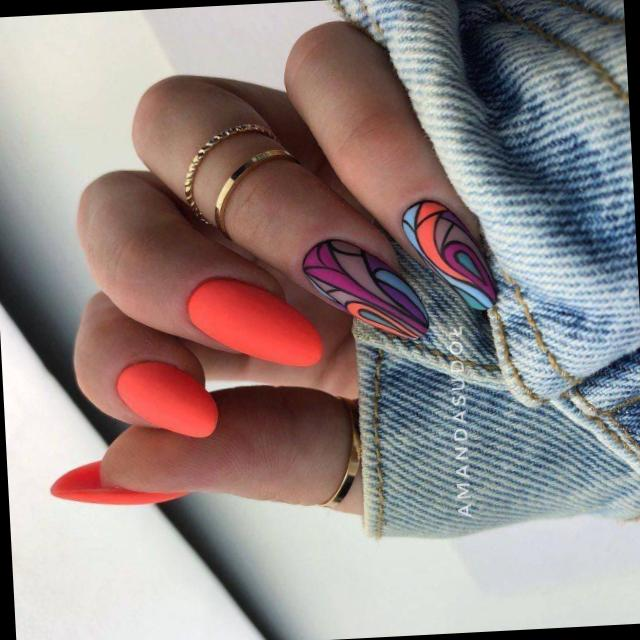Nail: (302, 238, 428, 338), (187, 276, 322, 366), (402, 199, 496, 309), (116, 360, 218, 437), (51, 462, 181, 504)
